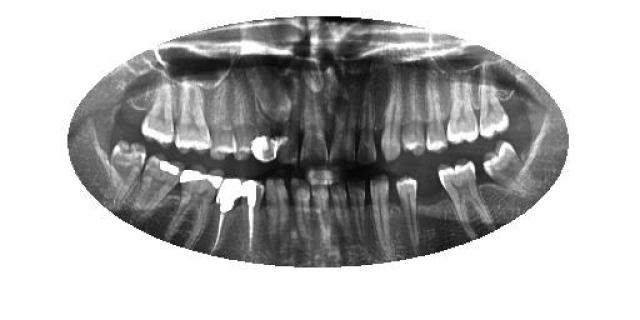Fillings: (165, 164, 224, 251)
Implant: (208, 176, 242, 256), (240, 178, 265, 254)
